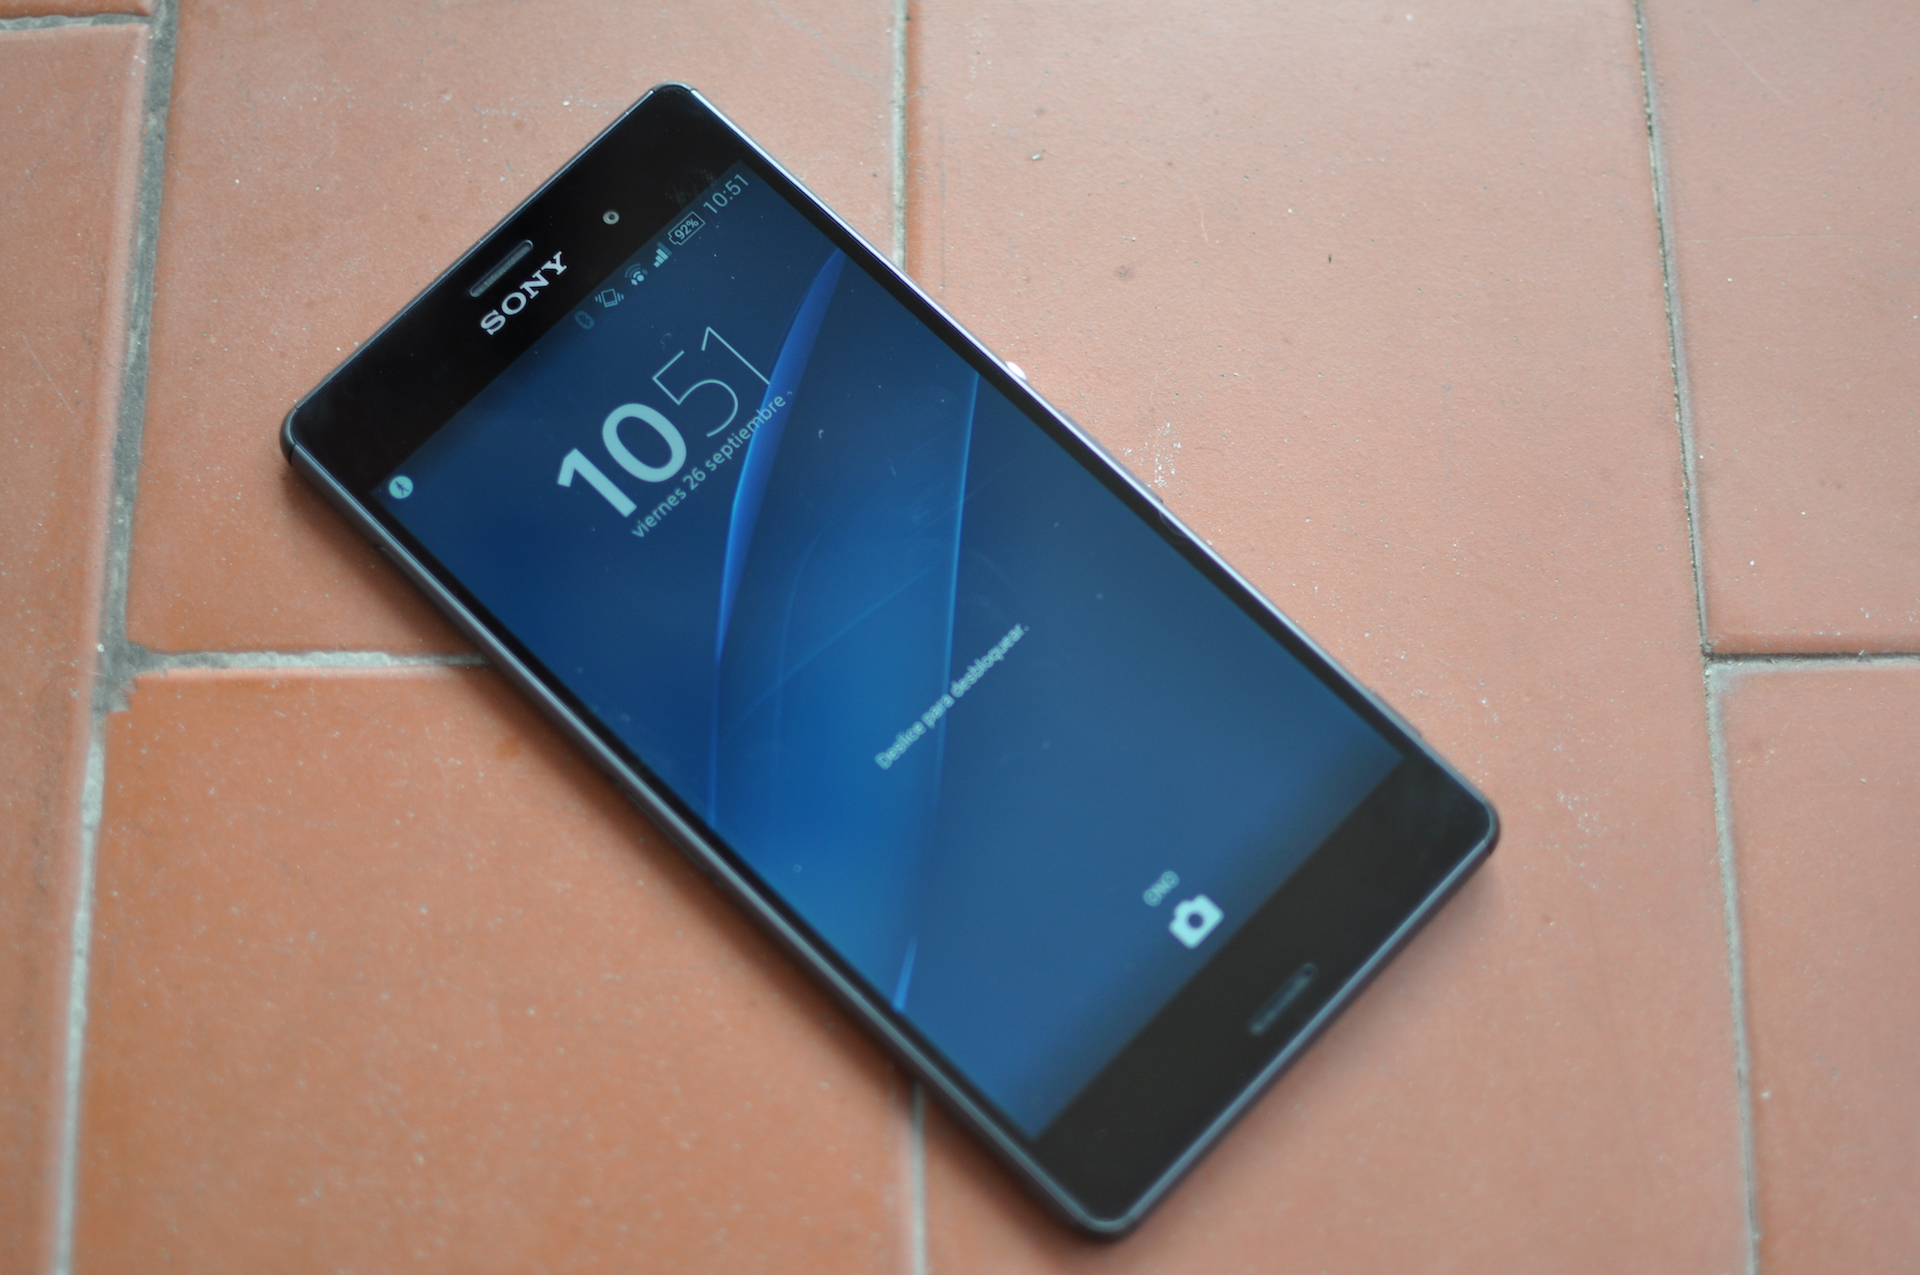smartphone: (274, 78, 1508, 1248)
